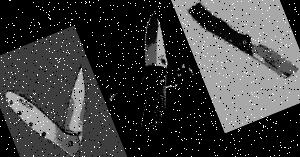knife: (86, 6, 210, 147), (185, 0, 300, 103), (4, 60, 113, 157)
